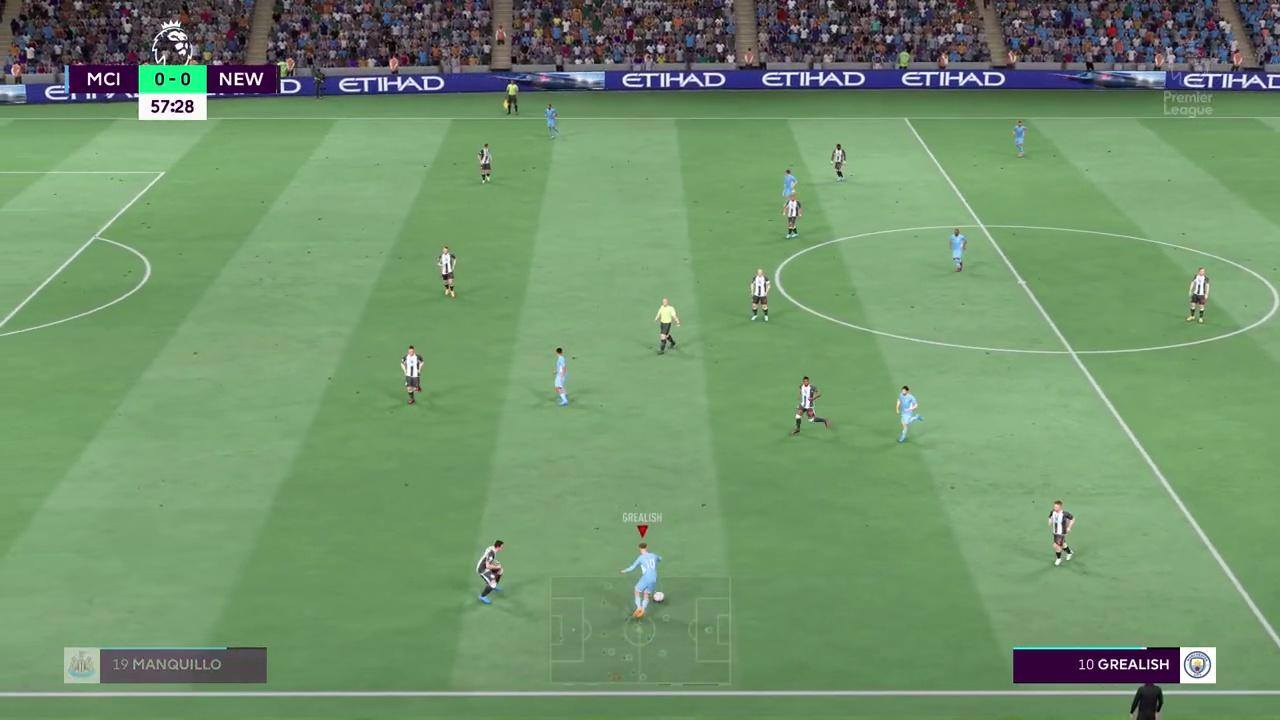scoreboard: (61, 64, 282, 94)
timestamp: (137, 97, 203, 119)
